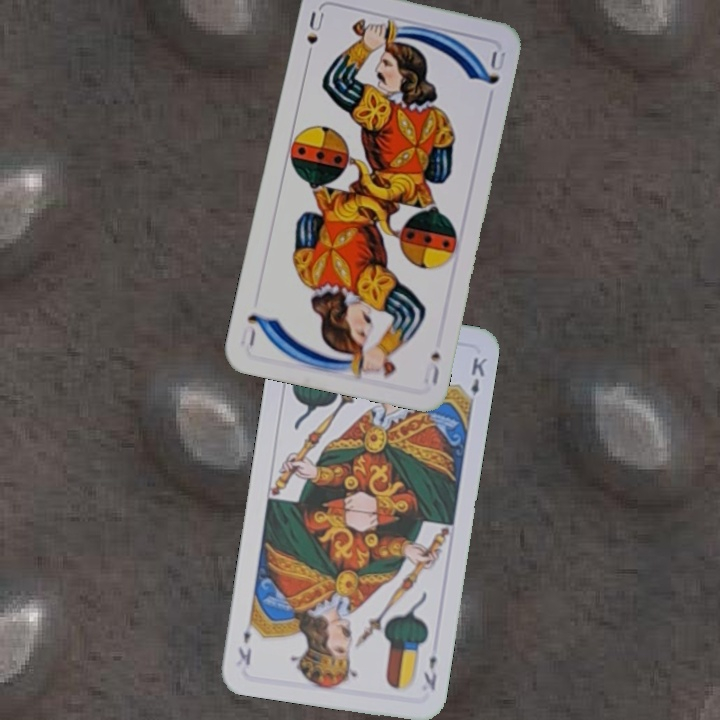EK: (419, 651, 440, 693)
SU: (301, 8, 327, 64), (419, 347, 443, 388)
